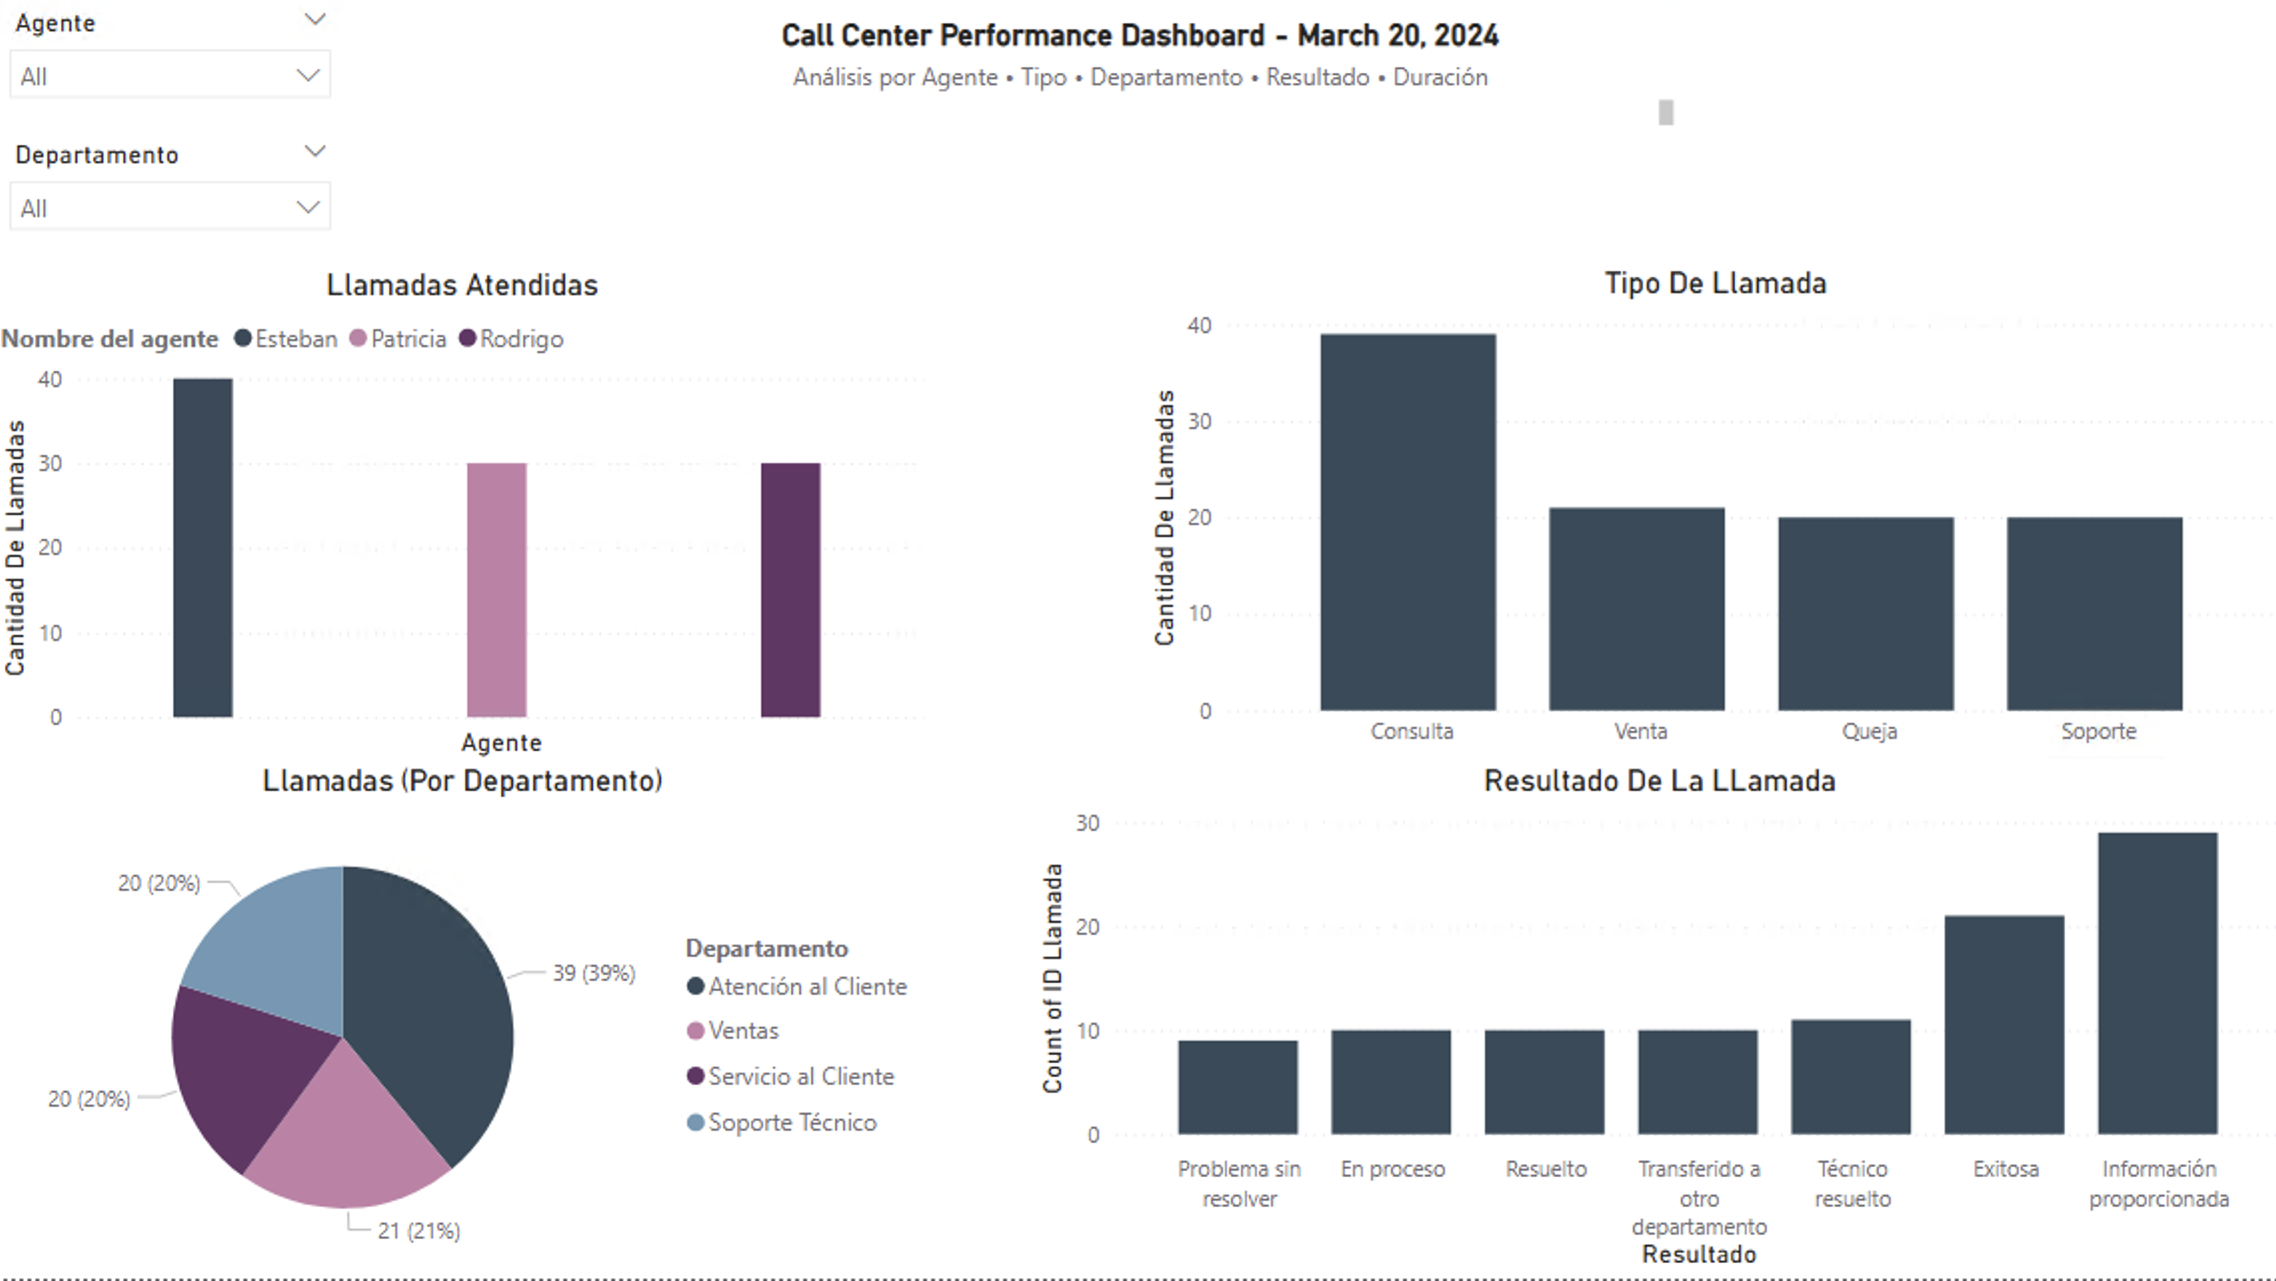

The page's visual inventory and layout, read from the dashboard file:
{"tool":"powerbi","page":{"name":"Page 1","canvas":[1280,720],"ordinal":0},"visuals":[{"type":"textbox","title":"Call Center Performance Dashboard - March 20, 2024","box":[338.1,17.5,602.9,64.6],"z":0},{"type":"clusteredColumnChart","title":"Llamadas Atendidas","fields":{"Y":["CountNonNull(BD BA Proyecto Final.ID Llamada)"],"Category":["BD BA Proyecto Final.Agente"],"Series":["BD BA Proyecto Final.Nombre del agente"]},"box":[0,156.5,524.1,277.9],"z":1000},{"type":"clusteredColumnChart","title":"Tipo De Llamada","fields":{"Category":["BD BA Proyecto Final.Tipo de Llamada"],"Y":["CountNonNull(BD BA Proyecto Final.ID Llamada)"]},"box":[640.1,155.4,640.1,277.9],"z":2000},{"type":"pieChart","title":"Llamadas (Por Departamento)","fields":{"Category":["BD BA Proyecto Final.Departamento"],"Y":["CountNonNull(BD BA Proyecto Final.ID Llamada)"]},"box":[0,433.3,524.1,286.7],"z":3000},{"type":"lineClusteredColumnComboChart","title":"Resultado De La LLamada","fields":{"Category":["BD BA Proyecto Final.Resultado"],"Y":["CountNonNull(BD BA Proyecto Final.ID Llamada)"]},"box":[577.8,433.3,702.5,286.7],"z":4000},{"type":"slicer","fields":{"Values":["BD BA Proyecto Final.Nombre del agente"]},"box":[0,7.7,199.1,74.4],"z":5000},{"type":"slicer","fields":{"Values":["BD BA Proyecto Final.Departamento"]},"box":[0,81,199.1,74.4],"z":6000}]}

Visuals, with their boxes in screenshot pixels (x1, y1, x2, y2), scaled from the page's 1280x720 canvas onto the 2276x1281 screenshot:
"Call Center Performance Dashboard - March 20, 2024" textbox: 601/31/1673/146
"Llamadas Atendidas" clusteredColumnChart: 0/278/932/773
"Tipo De Llamada" clusteredColumnChart: 1138/276/2275/771
"Llamadas (Por Departamento)" pieChart: 0/771/932/1280
"Resultado De La LLamada" lineClusteredColumnComboChart: 1027/771/2275/1280
slicer - BD BA Proyecto Final.Nombre del agente: 0/14/354/146
slicer - BD BA Proyecto Final.Departamento: 0/144/354/276
